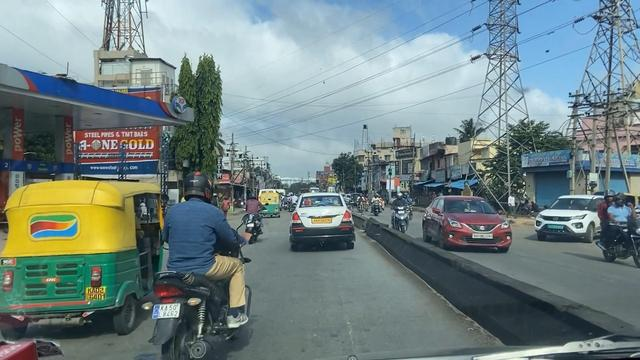LMV: (3, 183, 160, 323), (165, 163, 247, 360), (291, 195, 355, 249)
